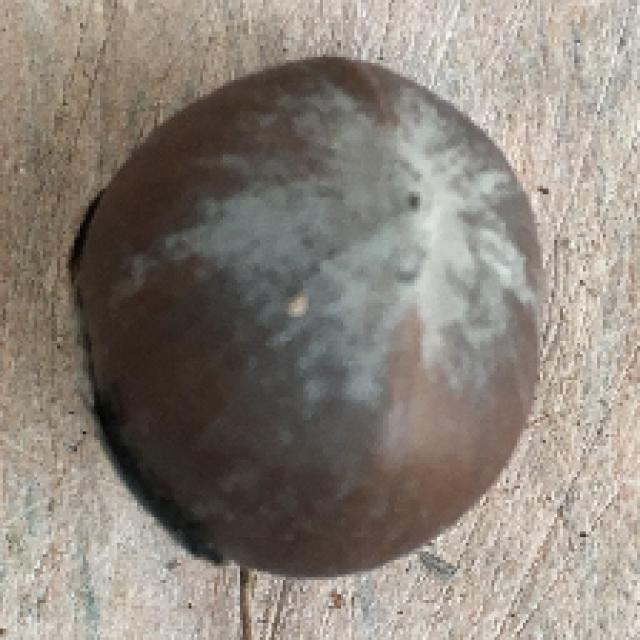damagedHazelnut: (75, 58, 551, 576)
